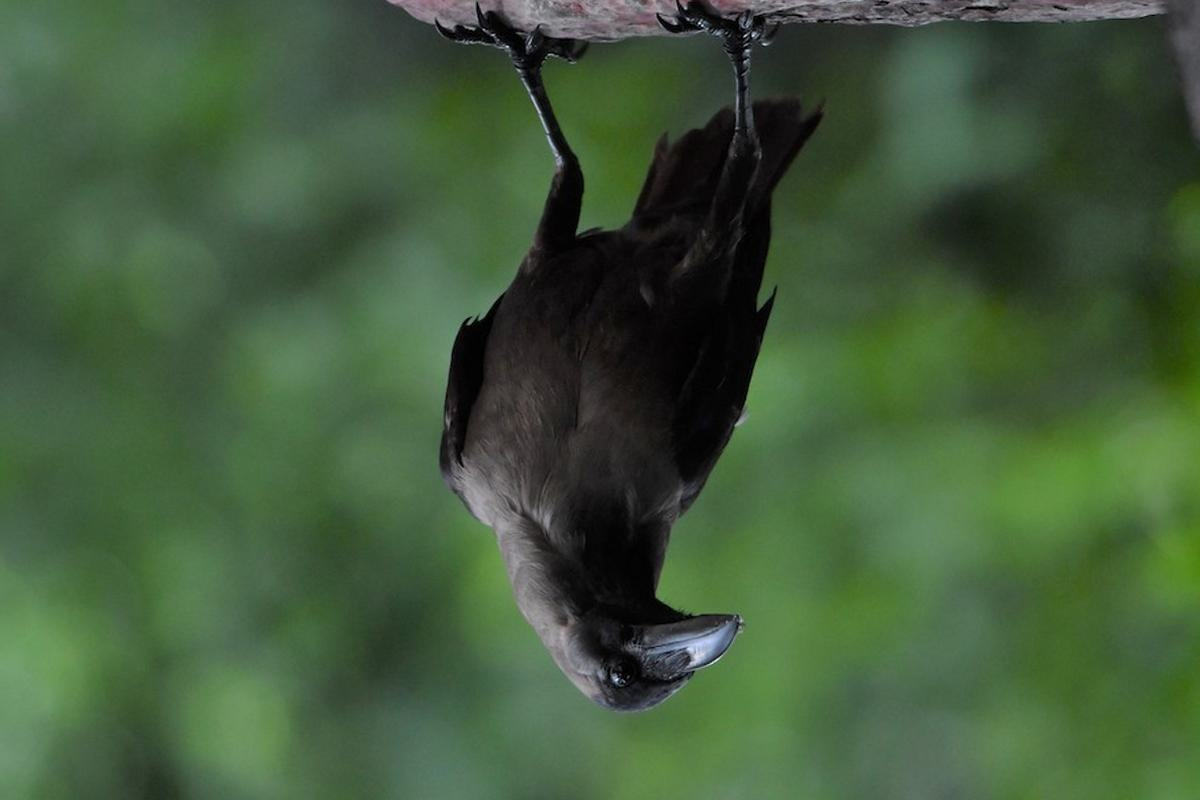crow: (400, 40, 811, 719)
